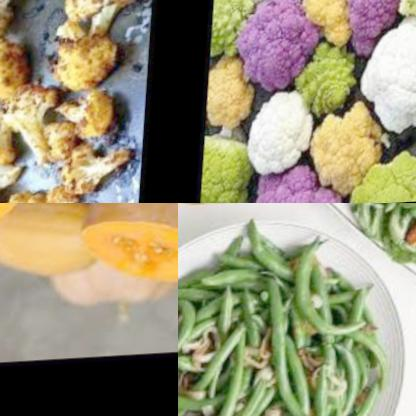cayliflower: (0, 0, 153, 203), (307, 103, 401, 202), (231, 0, 319, 97), (356, 10, 416, 143), (244, 86, 317, 175), (292, 47, 371, 128), (241, 160, 349, 203), (209, 53, 265, 134), (204, 129, 263, 203), (346, 146, 416, 203), (298, 0, 365, 52), (212, 0, 263, 64)
fasol: (178, 241, 394, 416)
pumpkin: (40, 248, 178, 314), (80, 203, 178, 295), (0, 203, 97, 290)
